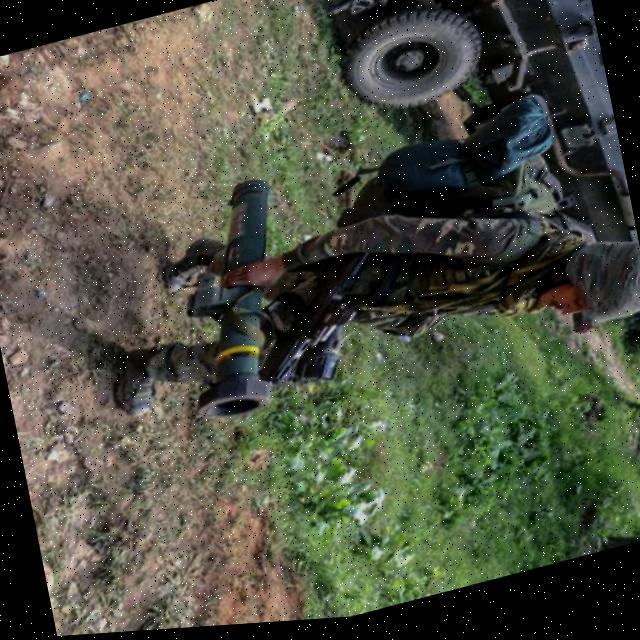rocket: (159, 177, 327, 430)
